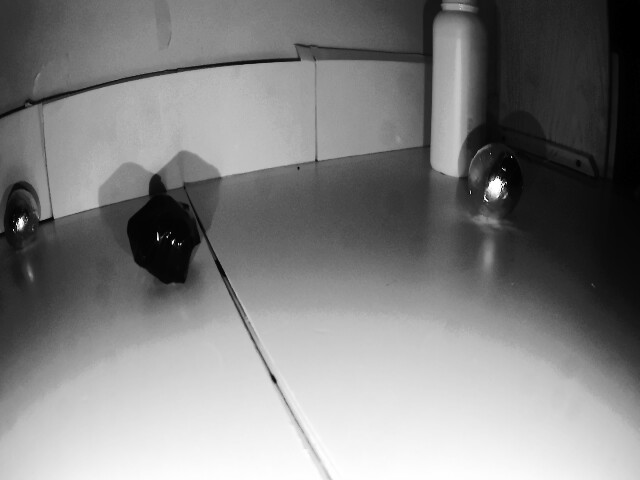black: (461, 138, 544, 236), (6, 183, 45, 245)
silver: (124, 195, 209, 285)
